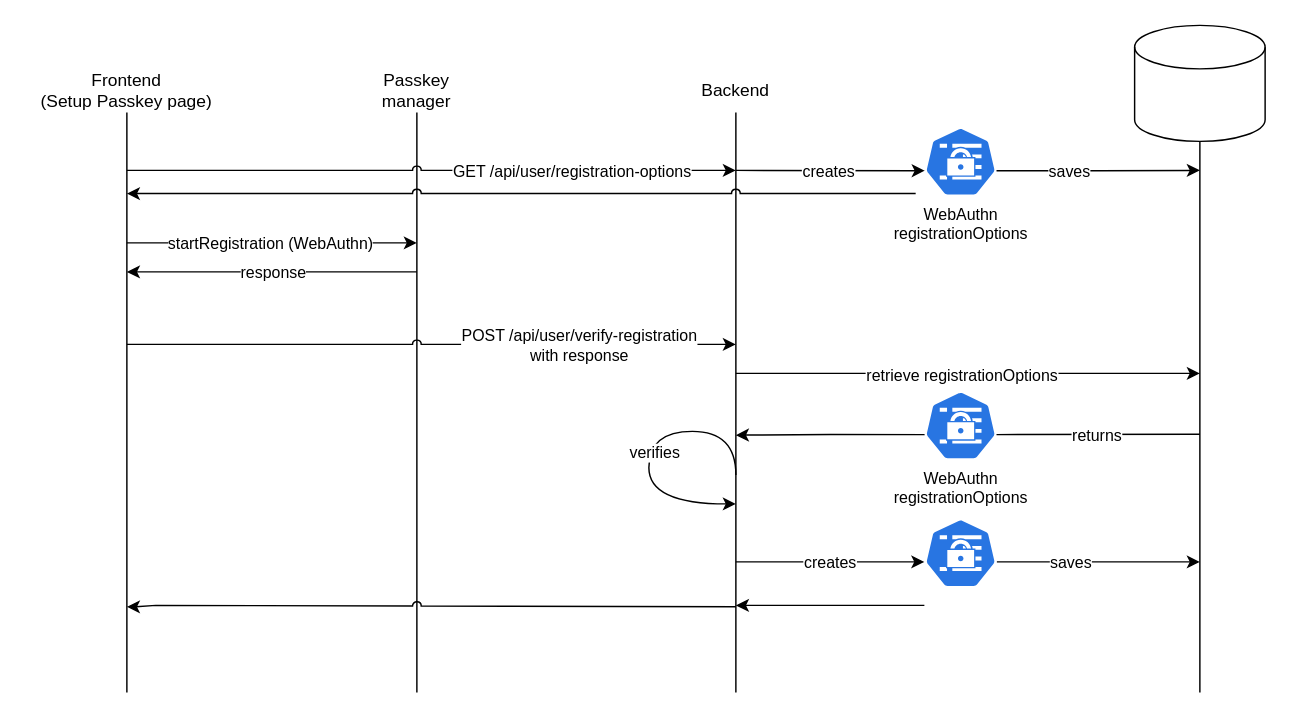
Some shapes in this 1291 by 719 pixel diagram are drawn without their labels. The centre of each missing label's shape, as x and y in pixels:
MongoDB: the point at 1199,82
Passkey: the point at 960,552
